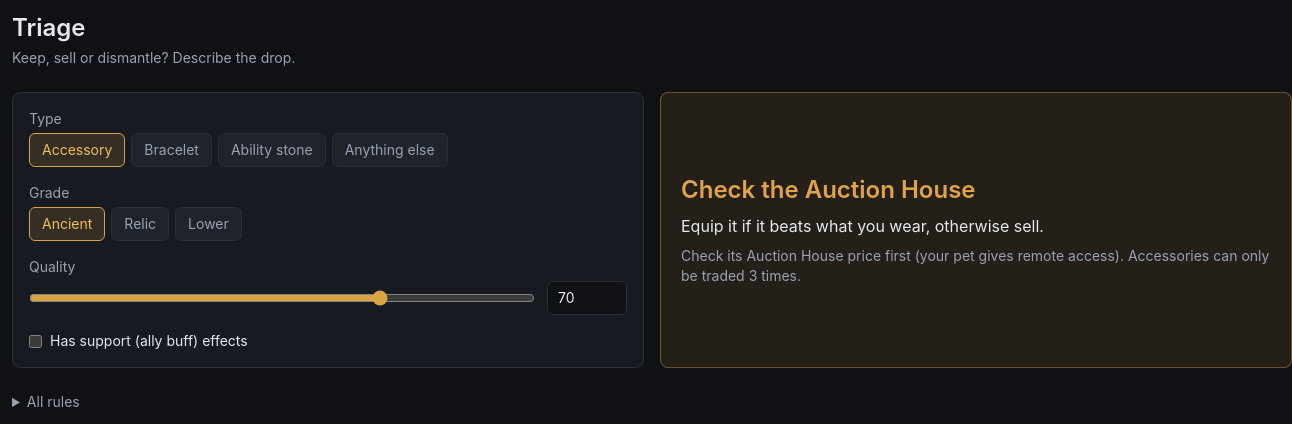
Test: TriagePage › updates the verdict as the drop changes
The image size is (1292, 424).
Expected: the message shows "Check the Auction House", [681, 175, 976, 204]
Replace the text in the number field named "Quality" with "50": (587,298) [547, 281, 627, 315]
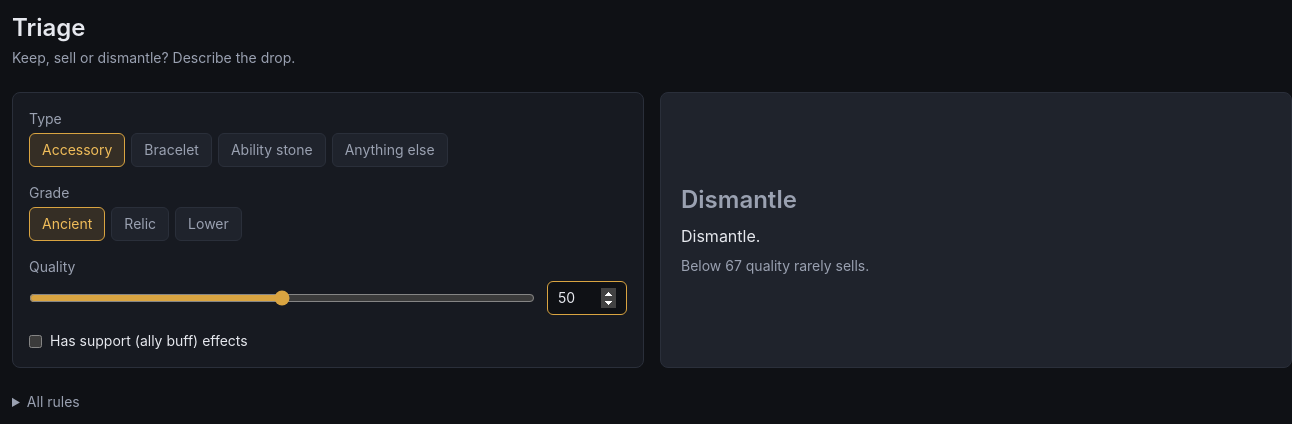
Result: the message shows "Dismantle" at [681, 185, 797, 214]
Click the checkbox labelled "Has support (ally buff) effects": (36,341) [29, 334, 42, 348]
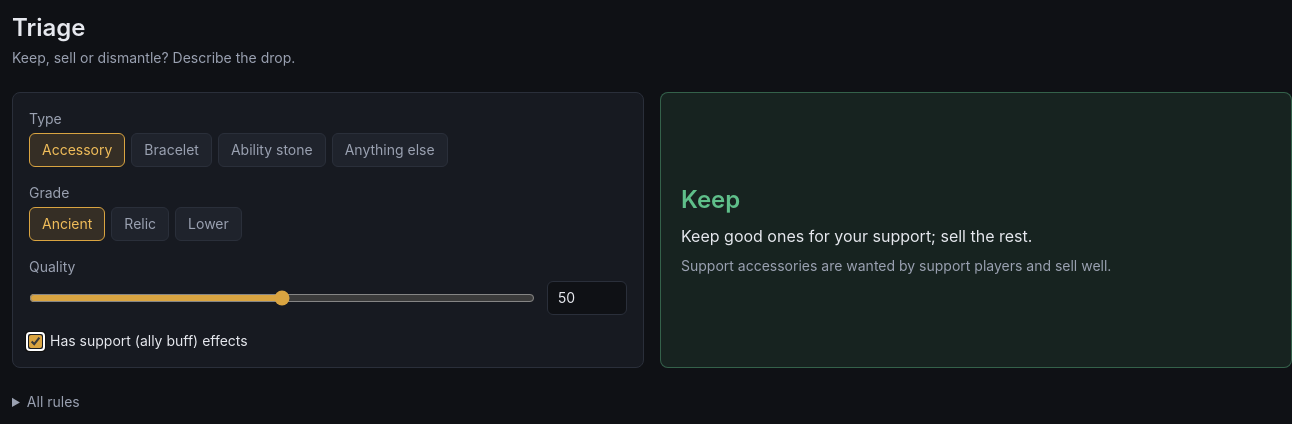
Result: the message shows "Keep" at [681, 185, 740, 214]
Click the button "Ability stone": (272,150) [218, 133, 326, 167]
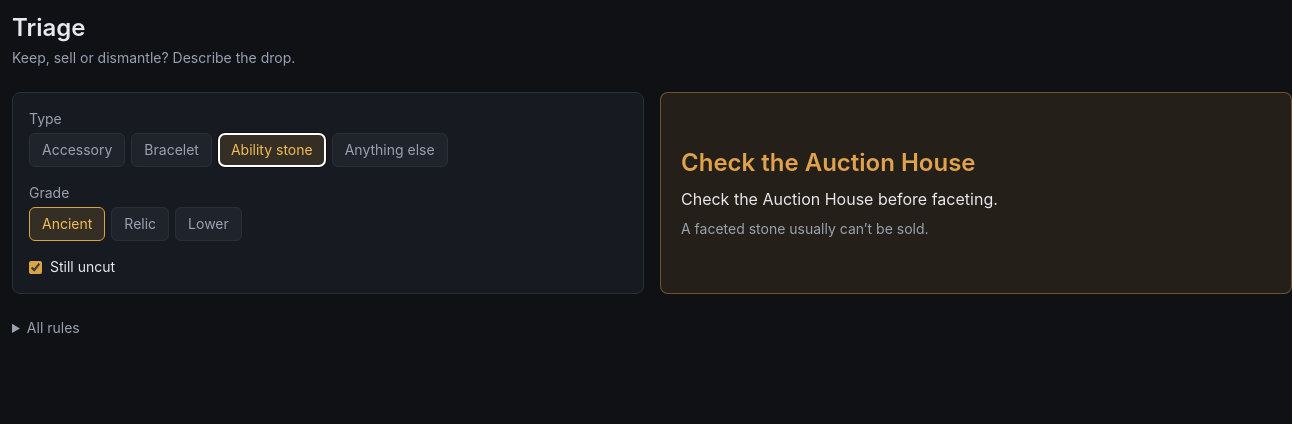
Result: the message shows "Check the Auction House before faceting" at [681, 189, 998, 209]
Click the checkbox labelled "Still uncut": (36,267) [29, 260, 42, 274]
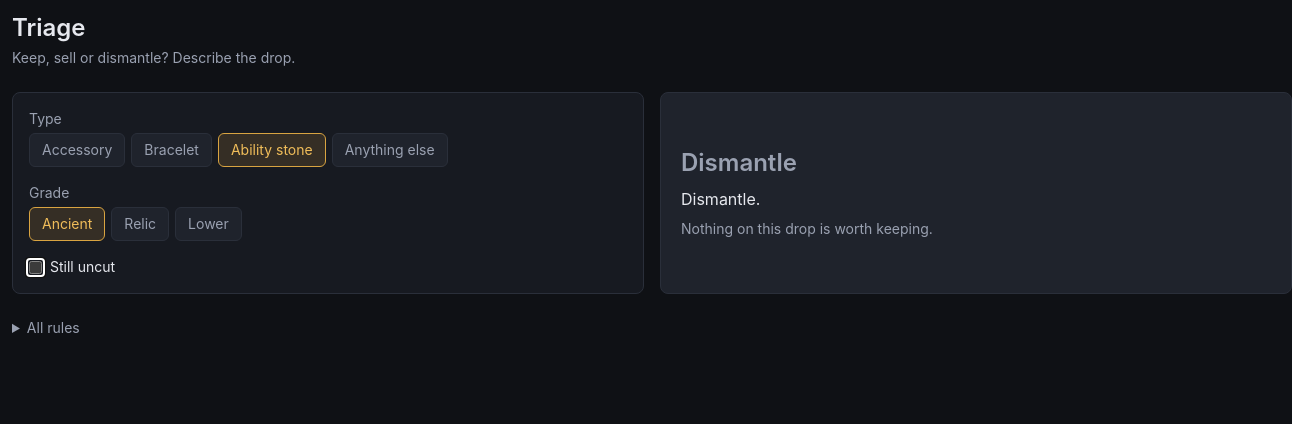
Result: the message shows "Dismantle" at [681, 148, 797, 177]
